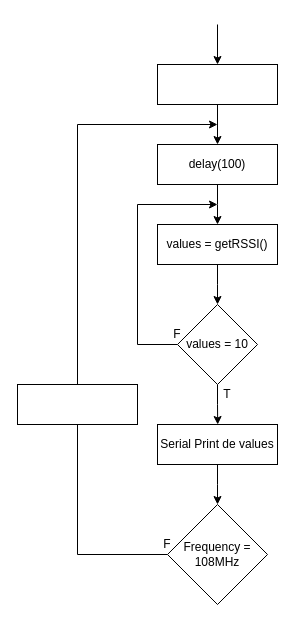
Some shapes in this 295 by 622 pixel diagram are drawn without their labels. Each missing label, with the centre of its shape:
"Frequency += 100kHz" goes at point (77, 404).
"Frequency = 80MHz" goes at point (217, 84).
